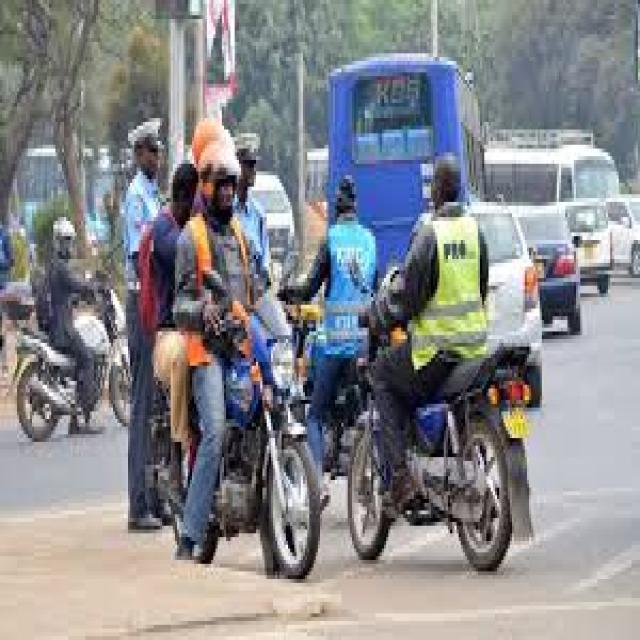bodaboda: (342, 334, 541, 586), (139, 357, 332, 579), (4, 304, 148, 452)
bus: (326, 29, 492, 228), (507, 90, 635, 210)
